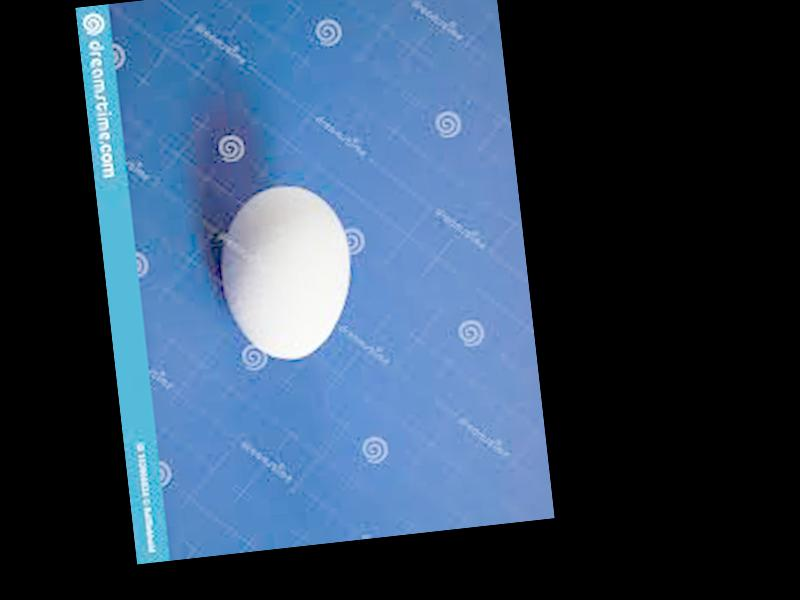Eggs: (212, 179, 358, 366)
